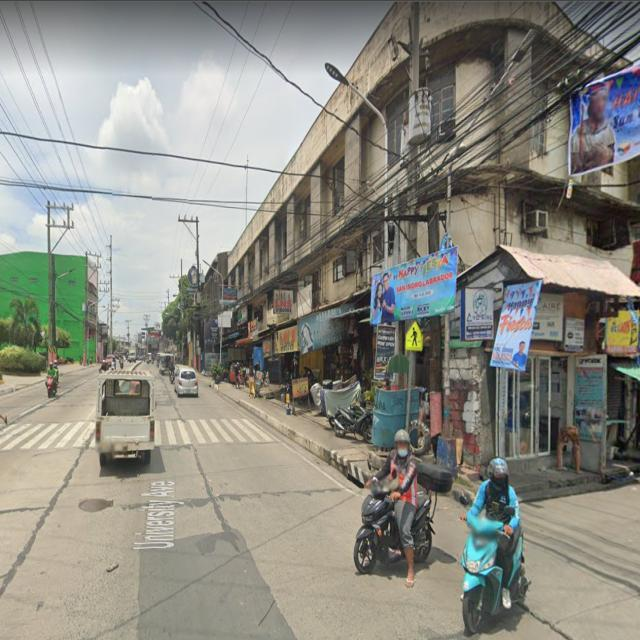pedestrian crossing: (404, 319, 426, 355)
